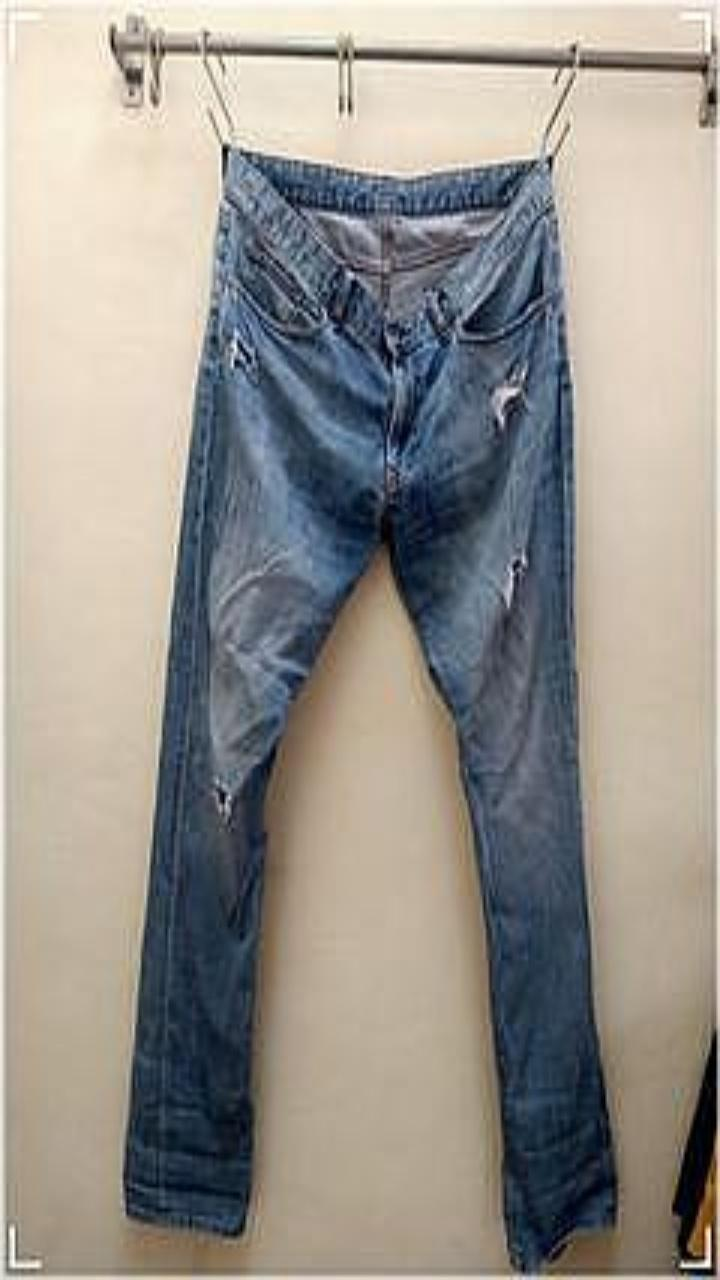Jeans: (124, 145, 616, 1271)
